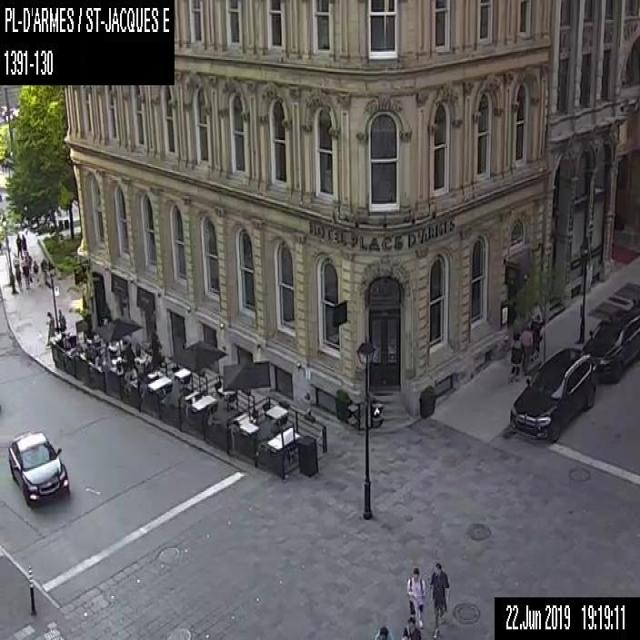pedestrian: (427, 561, 450, 639), (406, 566, 425, 627), (508, 330, 523, 381), (519, 325, 532, 373), (530, 314, 541, 358), (400, 616, 422, 638), (44, 310, 54, 345), (374, 622, 392, 638), (57, 307, 66, 332), (39, 257, 47, 283), (22, 261, 29, 288), (20, 233, 27, 256), (32, 259, 39, 281), (15, 233, 21, 257), (14, 266, 21, 286)
vehicle: (508, 346, 597, 444), (7, 429, 68, 508), (582, 309, 639, 383)
